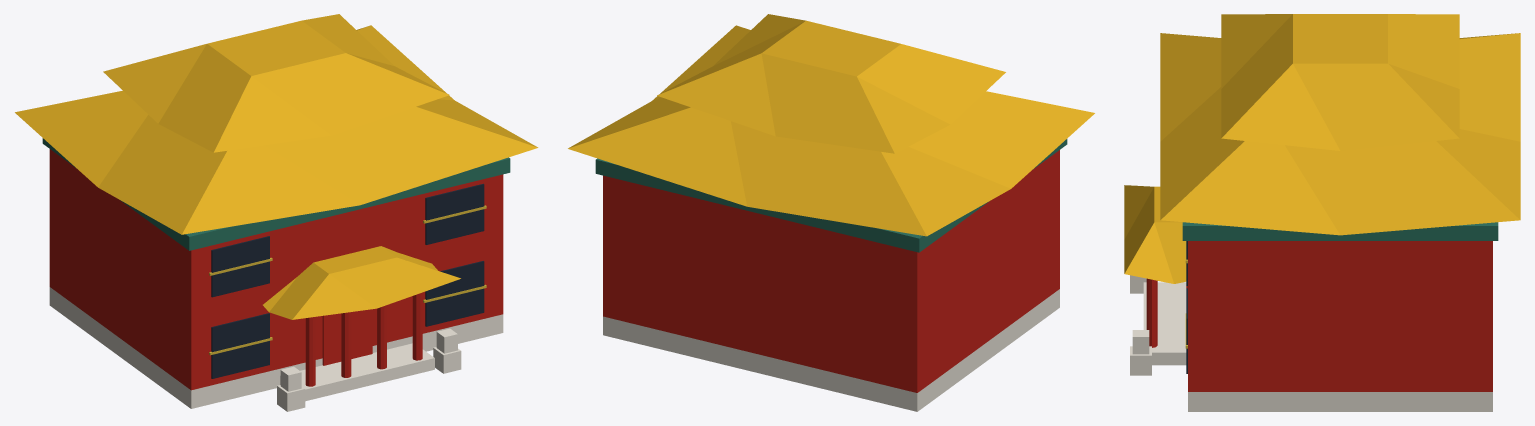
File: building_eastyork_s1_siheyuan_manor.glb
The picture shows the model from 3 angles, left to right: view 1: azimuth 30°, elevation 25°; view 2: azimuth 150°, elevation 25°; view 3: azimuth 270°, elevation 25°; orthographic projection. The views are drawn at different scales.
Visible parts, largest first — view 1: building_eastyork_s1_siheyuan_manor; view 2: building_eastyork_s1_siheyuan_manor; view 3: building_eastyork_s1_siheyuan_manor.
Part boxes in pixels (x1=…): building_eastyork_s1_siheyuan_manor: x1=15, y1=14, x2=538, y2=411; building_eastyork_s1_siheyuan_manor: x1=568, y1=14, x2=1094, y2=411; building_eastyork_s1_siheyuan_manor: x1=1124, y1=14, x2=1520, y2=411.
Size of the model in its own units: 16 by 11.6 by 14.3.
1 material, 1 textured.
